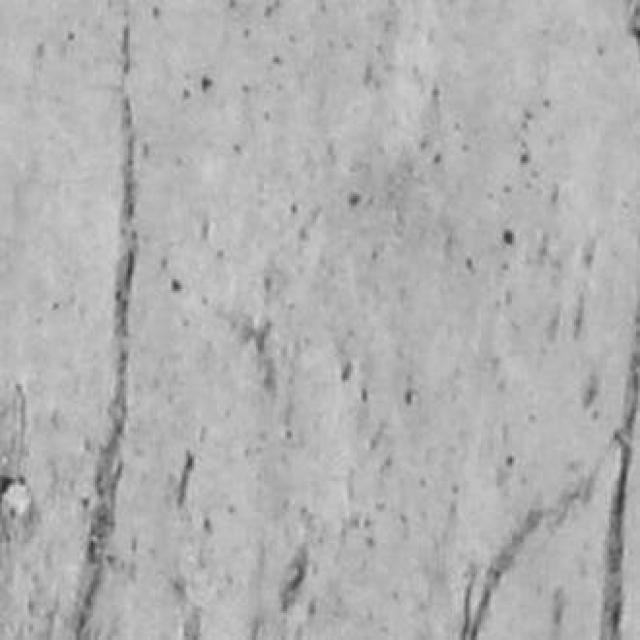crack: (74, 8, 137, 639), (460, 460, 601, 639), (600, 301, 639, 639), (280, 545, 308, 612), (177, 452, 193, 508)
